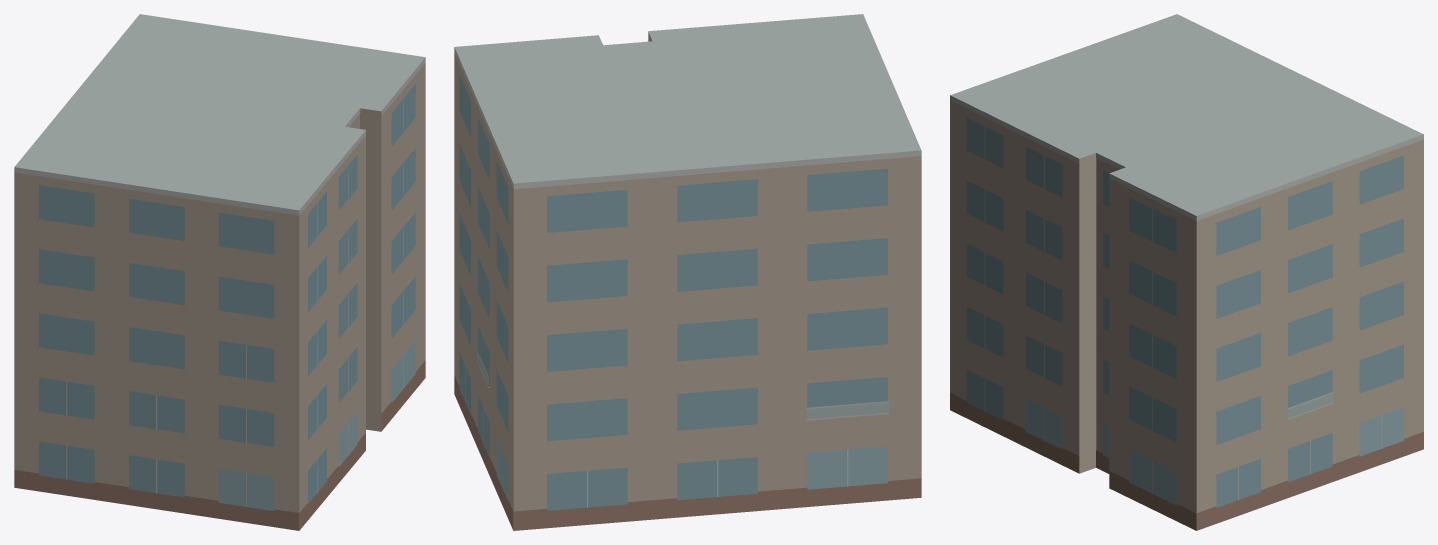
Rendered from survey-upis-32850439.glb.
3 renders of one model, left to right at view 1: azimuth 30°, elevation 25°; view 2: azimuth 150°, elevation 25°; view 3: azimuth 270°, elevation 25°, orthographic. The views are drawn at different scales.
Visible parts, largest first — view 1: survey-upis-32850439.tmp; view 2: survey-upis-32850439.tmp; view 3: survey-upis-32850439.tmp.
Part boxes in pixels (x1=…): survey-upis-32850439.tmp: x1=14, y1=14, x2=425, y2=530; survey-upis-32850439.tmp: x1=454, y1=14, x2=921, y2=530; survey-upis-32850439.tmp: x1=950, y1=14, x2=1423, y2=530.
Size of the model in its own units: 20.5 by 14.9 by 20.32.
